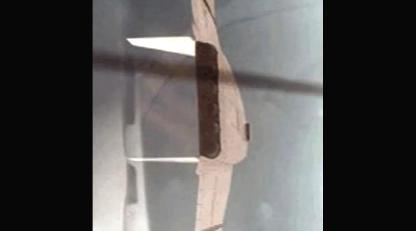U2: (125, 0, 250, 229)
